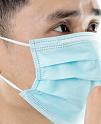with_mask: (2, 1, 101, 124)
